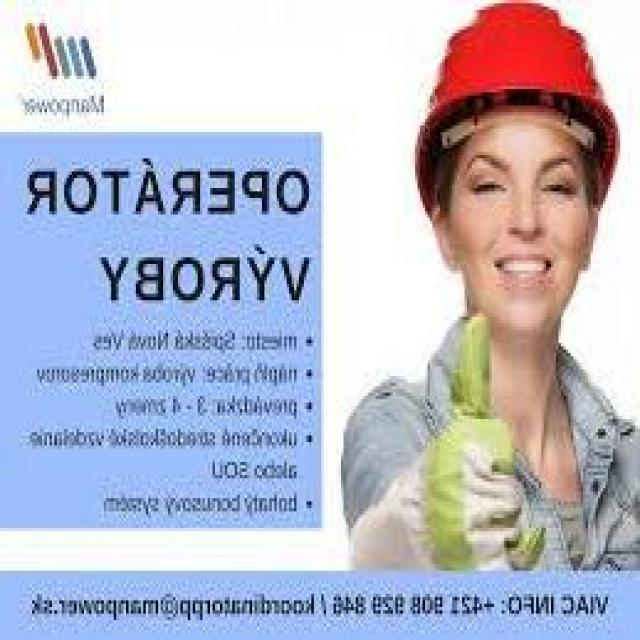Safety-Helmet: (410, 0, 628, 155)
